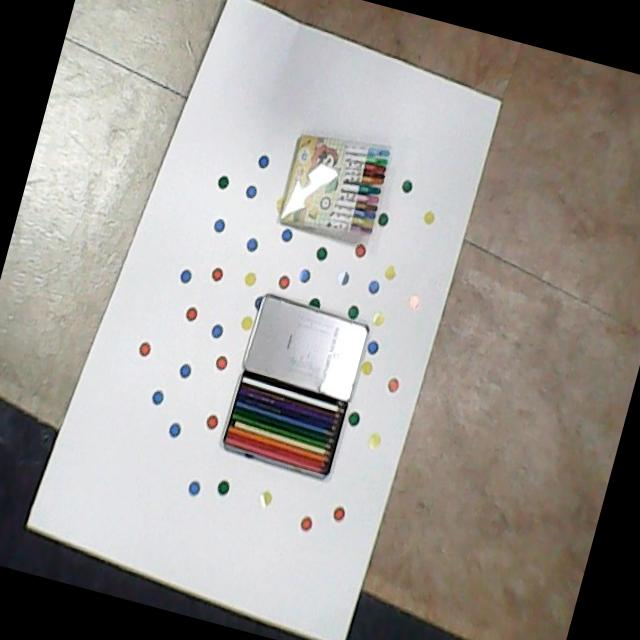color: (212, 368, 354, 485)
signpen: (268, 131, 395, 243)
